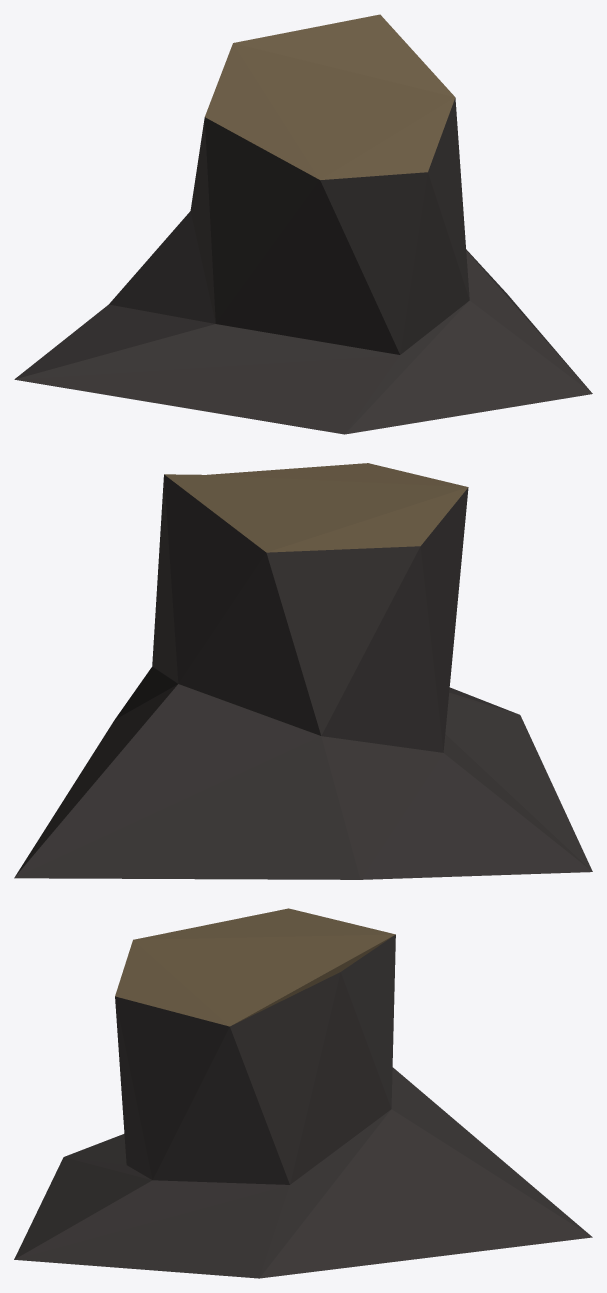
The model's file is CELMS_001.FBX.
3 renders of one model, top to bottom at view 1: azimuth 30°, elevation 25°; view 2: azimuth 150°, elevation 25°; view 3: azimuth 270°, elevation 25°, orthographic. The views are drawn at different scales.
Parts seen in each view (by area): view 1: CELMS_001; view 2: CELMS_001; view 3: CELMS_001.
Part boxes in pixels (x1,y1,x2,y2): CELMS_001: (14, 14, 592, 434); CELMS_001: (14, 463, 592, 879); CELMS_001: (14, 908, 592, 1278).
Size of the model in its own units: 1990 by 1135 by 2207.
1 material, 1 textured.
